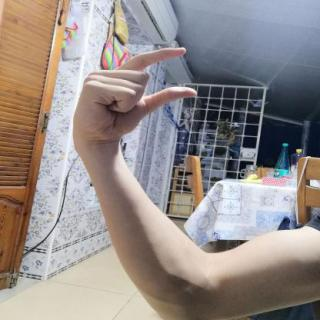DELL: (63, 40, 206, 149)
